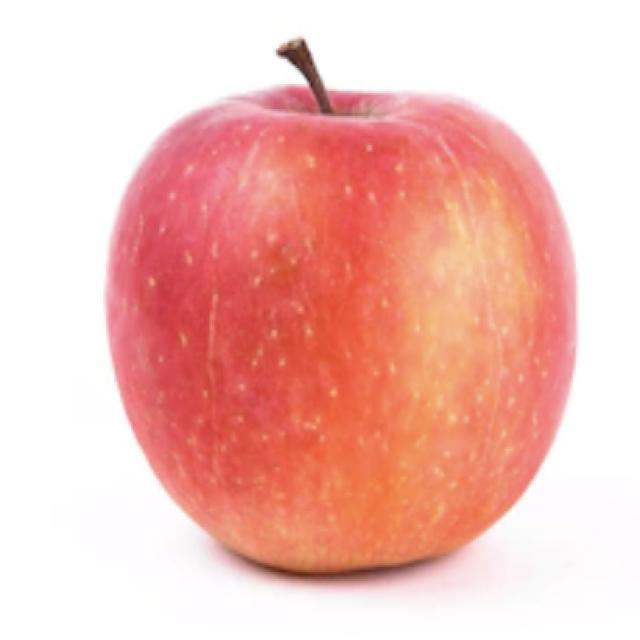Apple: (103, 35, 579, 576)
